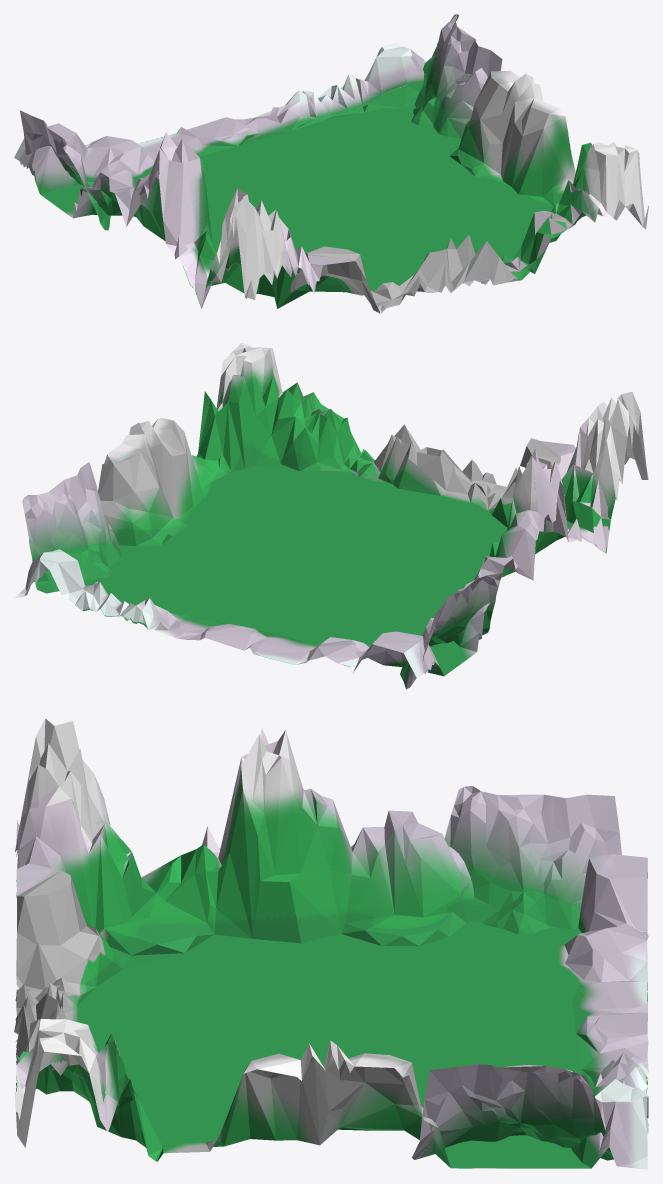
Rendered from Terrain.fbx.
The picture shows the model from 3 angles, top to bottom: view 1: azimuth 30°, elevation 25°; view 2: azimuth 150°, elevation 25°; view 3: azimuth 270°, elevation 25°; orthographic projection. The views are drawn at different scales.
Parts seen in each view (by area): view 1: Terrain; view 2: Terrain; view 3: Terrain.
Boxes of the visible parts, left/top/right/bottom form: Terrain: left=14, top=14, right=648, bottom=313; Terrain: left=14, top=342, right=648, bottom=689; Terrain: left=14, top=718, right=648, bottom=1169.
Size of the model in its own units: 32363 by 10394 by 30190.
